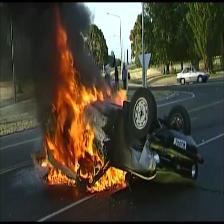fire: (41, 6, 129, 186)
